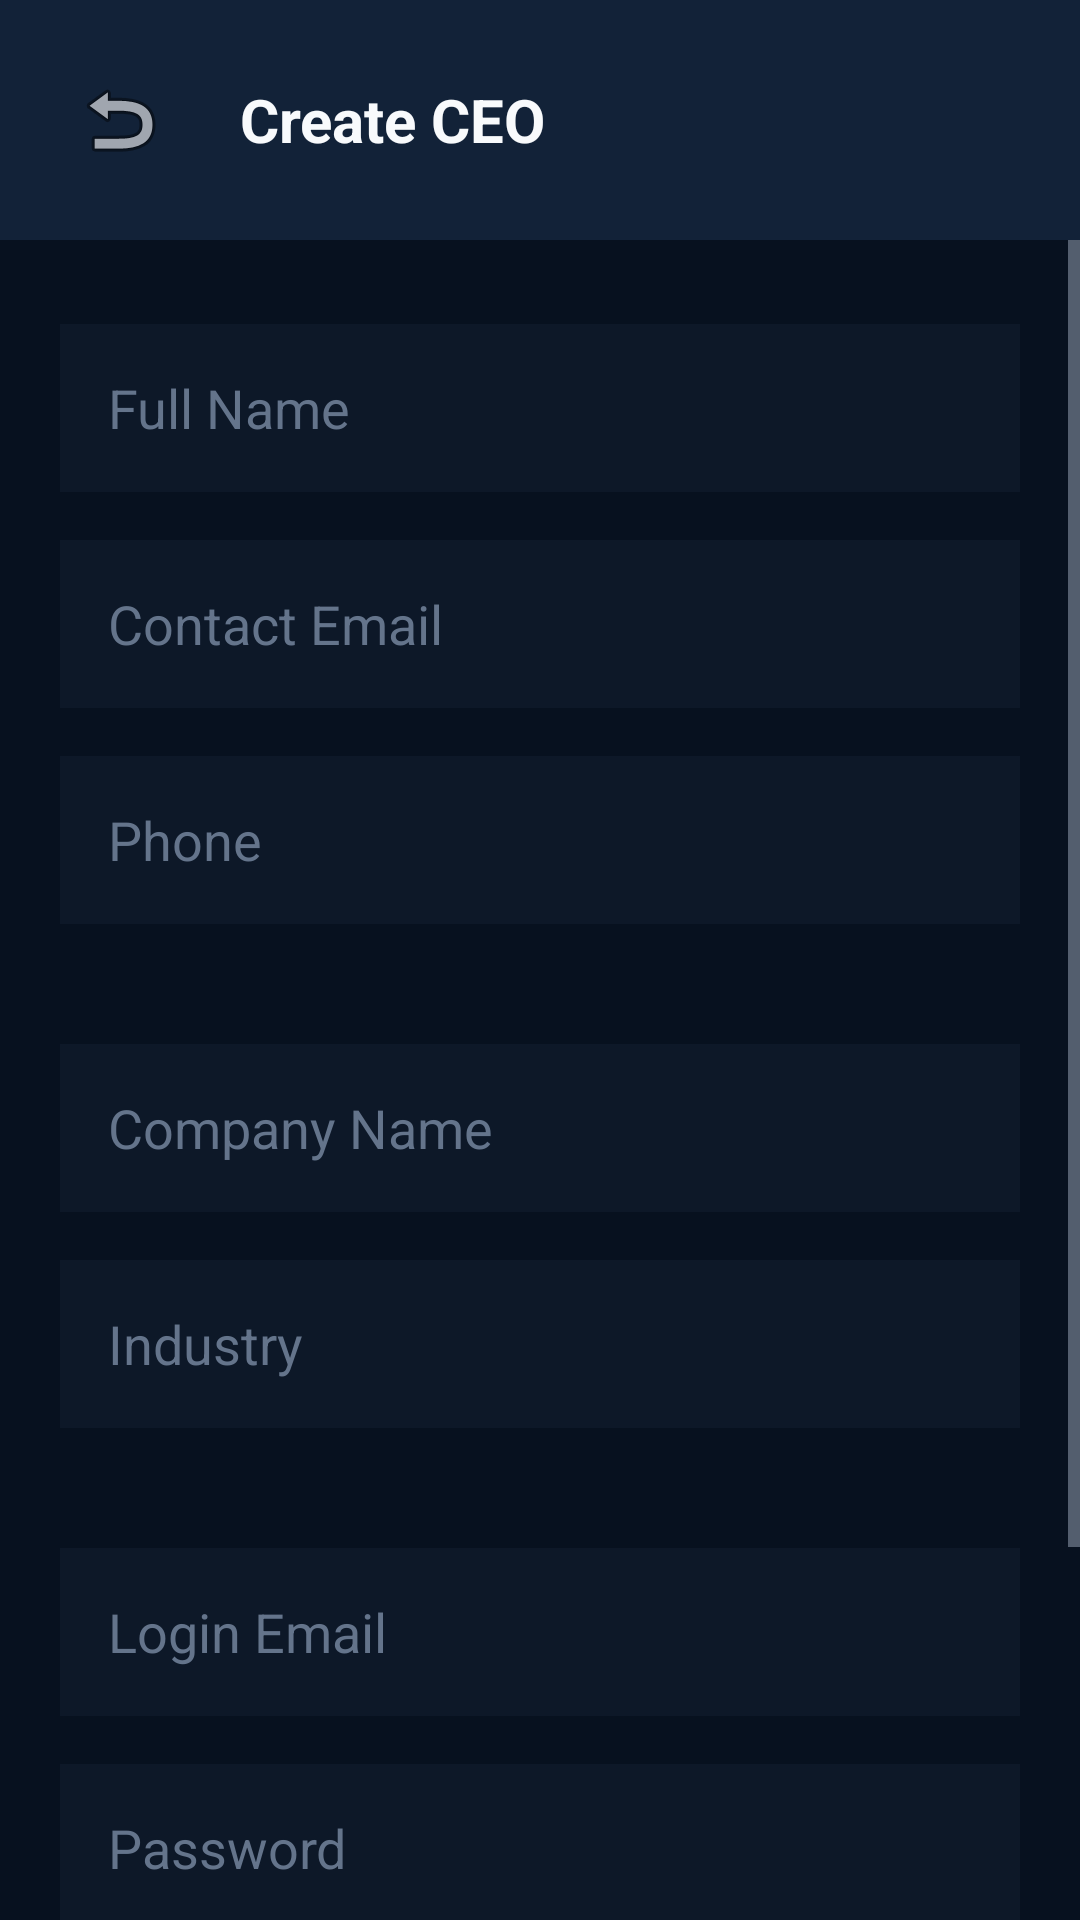

Where to tap for icons on this 1080w x 1920h app screen, as [x,y]:
revert: [121,120]
